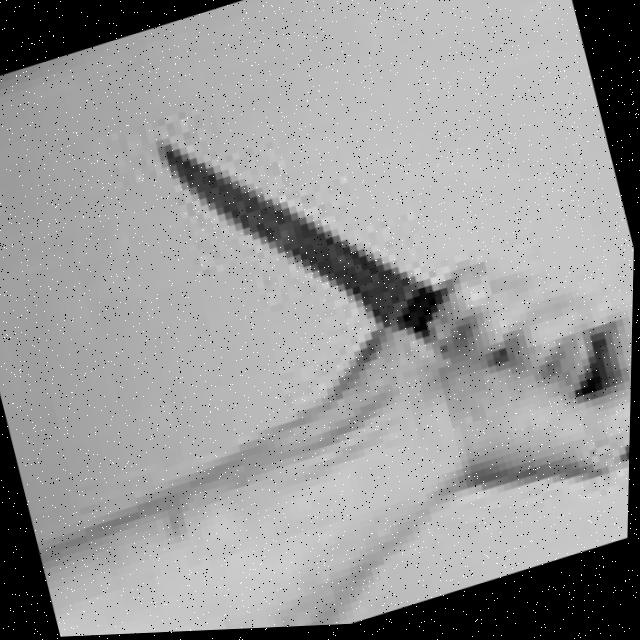knife: (149, 71, 465, 409)
